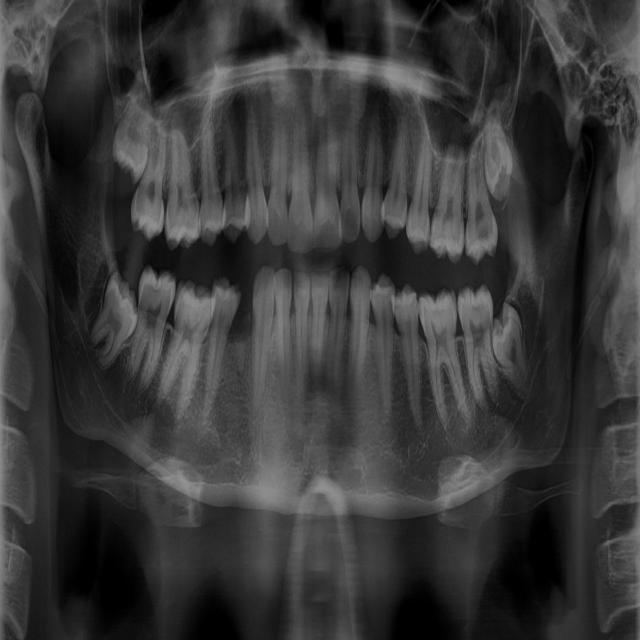Caries: (153, 277, 162, 289)
Retained root: (232, 313, 250, 378)
impacted tooth: (105, 62, 163, 178), (78, 264, 146, 362), (488, 302, 538, 401), (482, 85, 522, 205)
